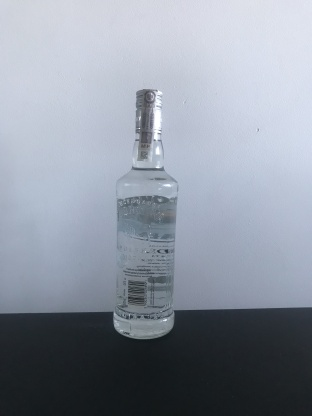nakretka: (133, 84, 165, 137)
